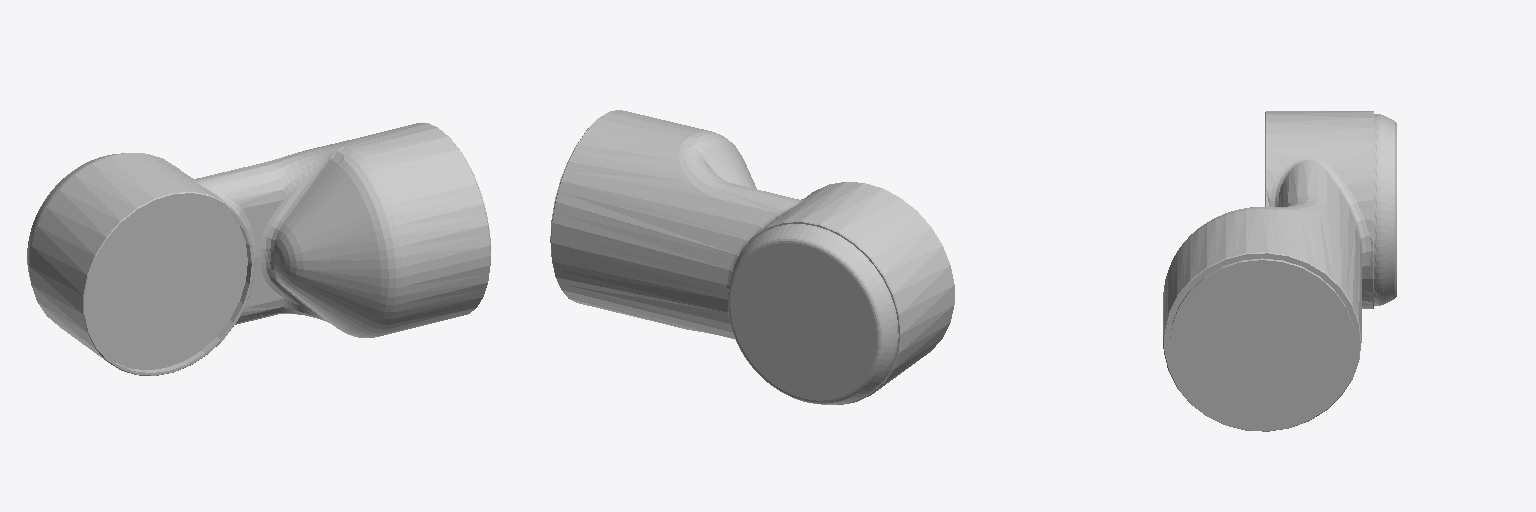
File: elbow_flex_link.obj
The picture shows the model from 3 angles: view 1: azimuth 30°, elevation 25°; view 2: azimuth 150°, elevation 25°; view 3: azimuth 270°, elevation 25°; orthographic projection.
Parts seen in each view (by area): view 1: elbow_flex_link; view 2: elbow_flex_link; view 3: elbow_flex_link.
Boxes of the visible parts, <box> form: elbow_flex_link: <box>27,123,490,375</box>; elbow_flex_link: <box>550,110,954,404</box>; elbow_flex_link: <box>1163,111,1396,431</box>.
Size of the model in its own units: 0.218 by 0.104 by 0.1225.